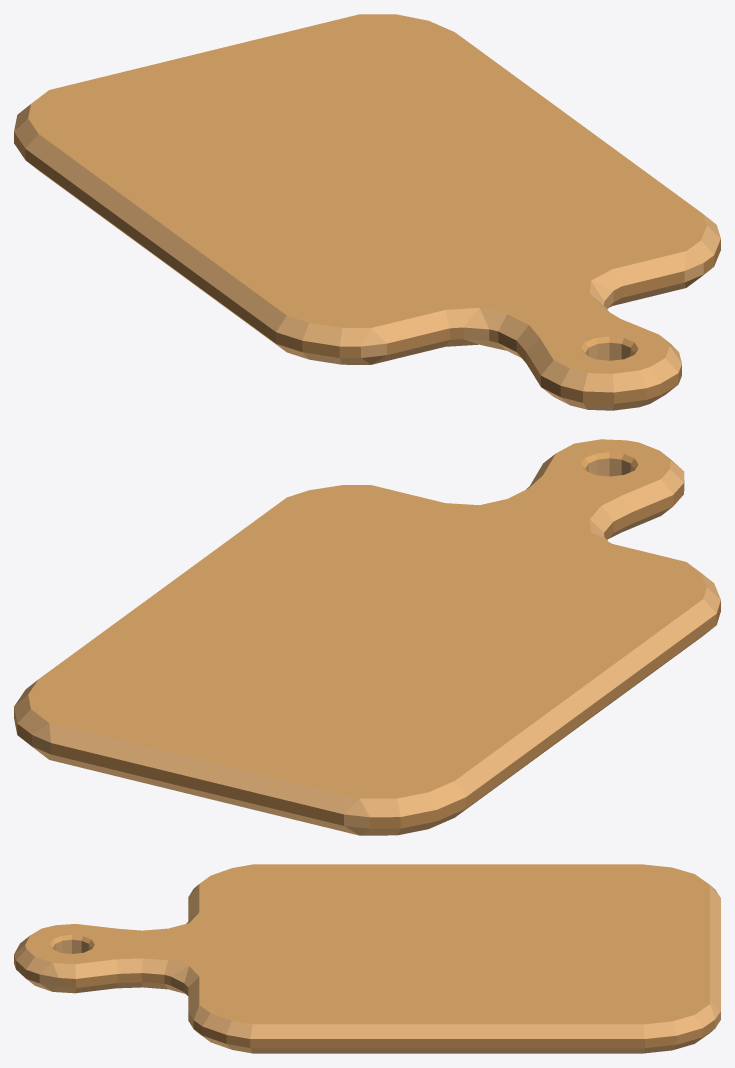
Rendered from 08-wooden-cutting-board.glb.
The picture shows the model from 3 angles, top to bottom: view 1: azimuth 30°, elevation 25°; view 2: azimuth 150°, elevation 25°; view 3: azimuth 270°, elevation 25°; orthographic projection. The views are drawn at different scales.
Parts seen in each view (by area): view 1: 01 Wooden cutting board; view 2: 01 Wooden cutting board; view 3: 01 Wooden cutting board.
Part boxes in pixels (<box>): 01 Wooden cutting board: <box>14,14,720,410</box>; 01 Wooden cutting board: <box>14,439,720,835</box>; 01 Wooden cutting board: <box>14,864,720,1053</box>.
Bounding box in the file's own units: 2 × 0.16 × 3.53.
Materials: 3 (1 with a texture image).
